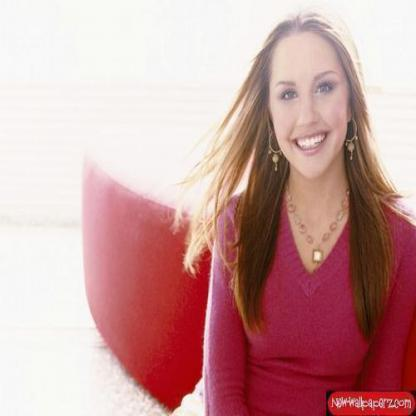long-hair: (235, 177, 394, 223)
